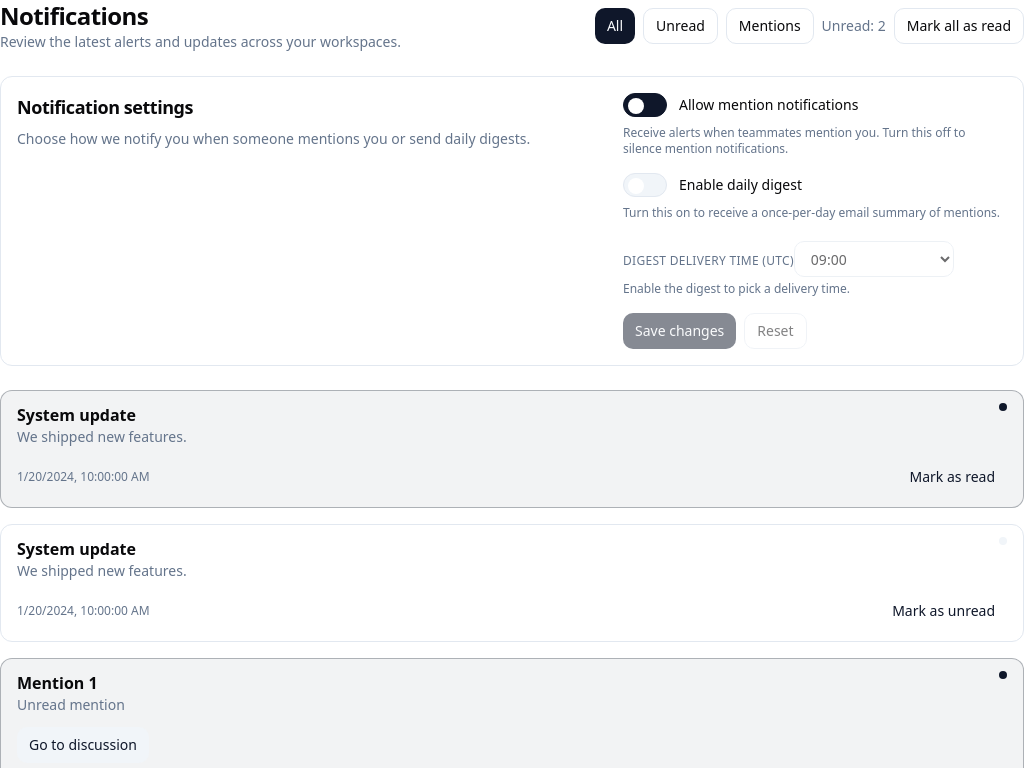
Test: NotificationsPage › filters notifications by unread and mentions modes
Expected: the text "Unread: 2" is shown, left=822, top=16, right=886, bottom=36
Click the button with test id "notifications-filter-unread": (680, 26) left=643, top=8, right=718, bottom=44
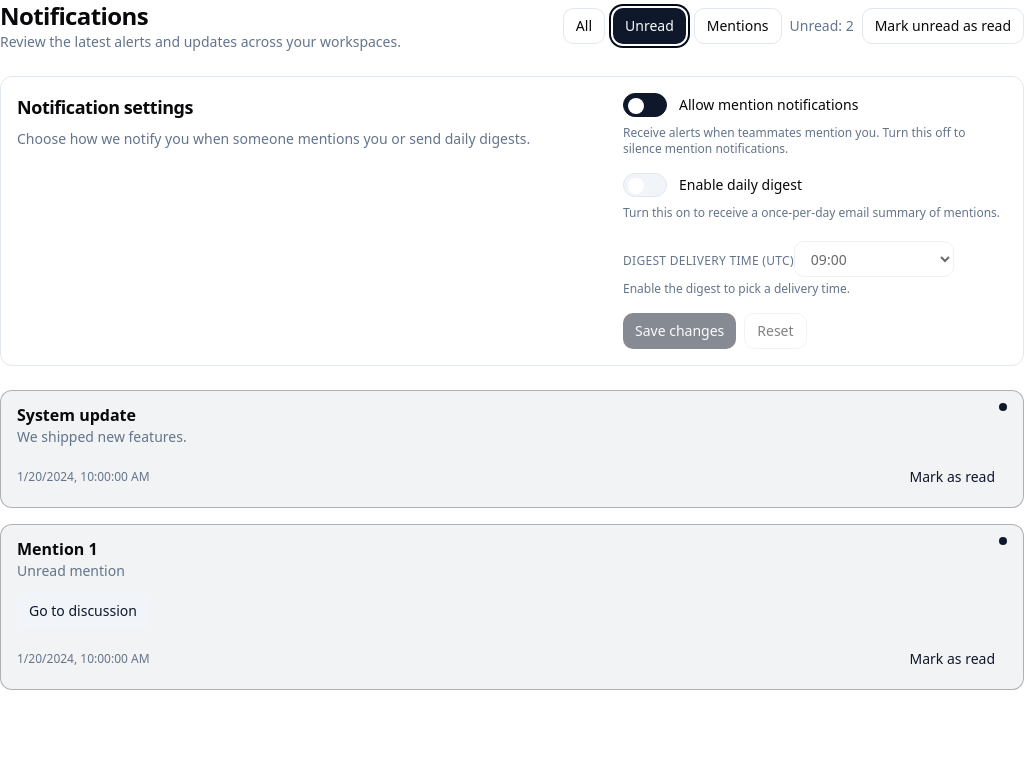
Expected: the text "Unread: 2" is shown, left=790, top=16, right=854, bottom=36
Expected: the number of list items is 2, left=0, top=390, right=1023, bottom=508; left=0, top=524, right=1023, bottom=690
Click the button with test id "notifications-filter-mentions": (738, 26) left=694, top=8, right=782, bottom=44
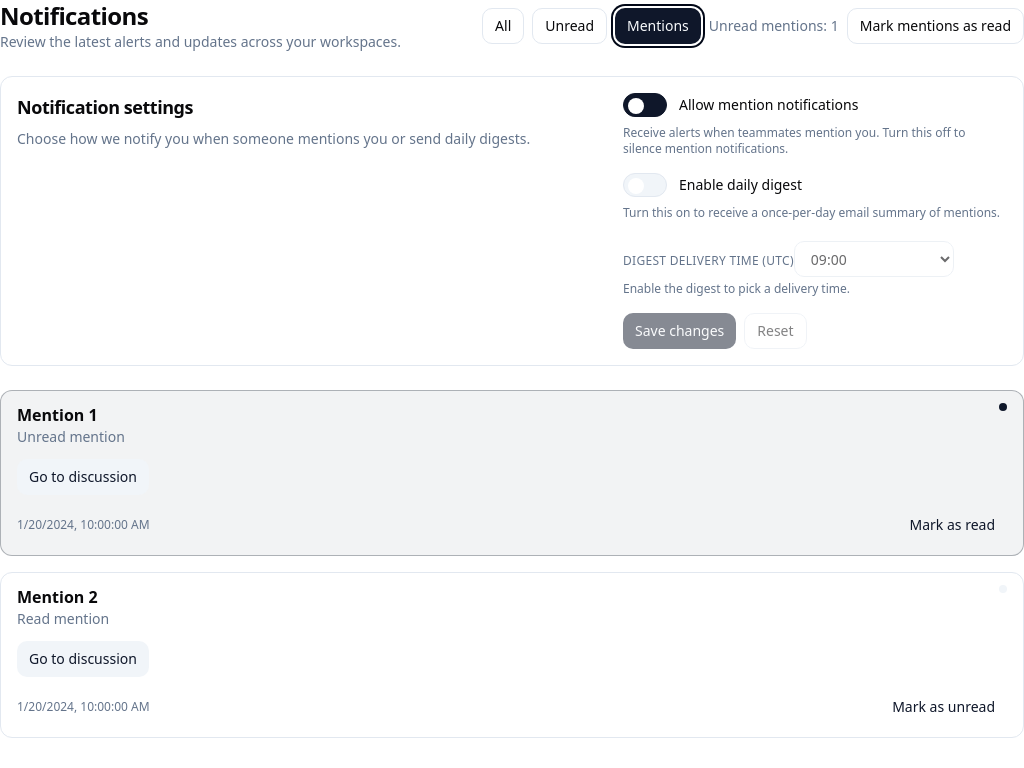
Expected: the number of list items is 2, left=0, top=390, right=1023, bottom=556; left=0, top=572, right=1023, bottom=738
Expected: the text "Unread mentions: 1" is shown, left=709, top=16, right=839, bottom=36
